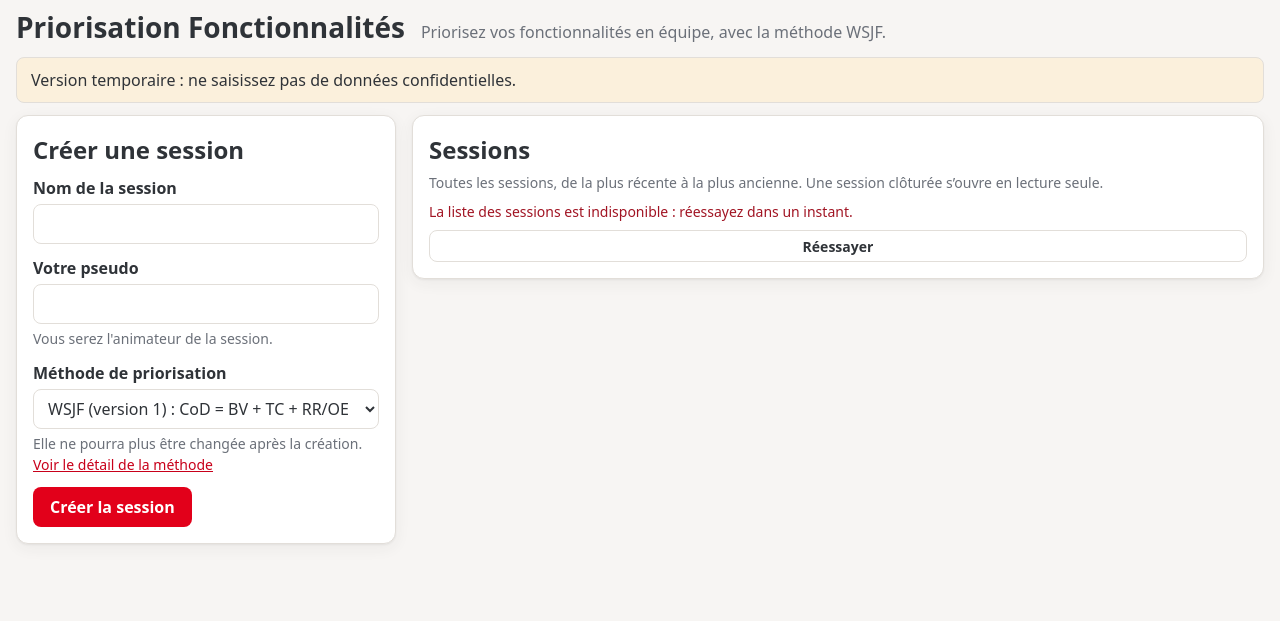
it: HomeComponent › shows a network message when the service does not answer
In the field with id "create-name": (206, 224) [33,204,379,244], type "A"
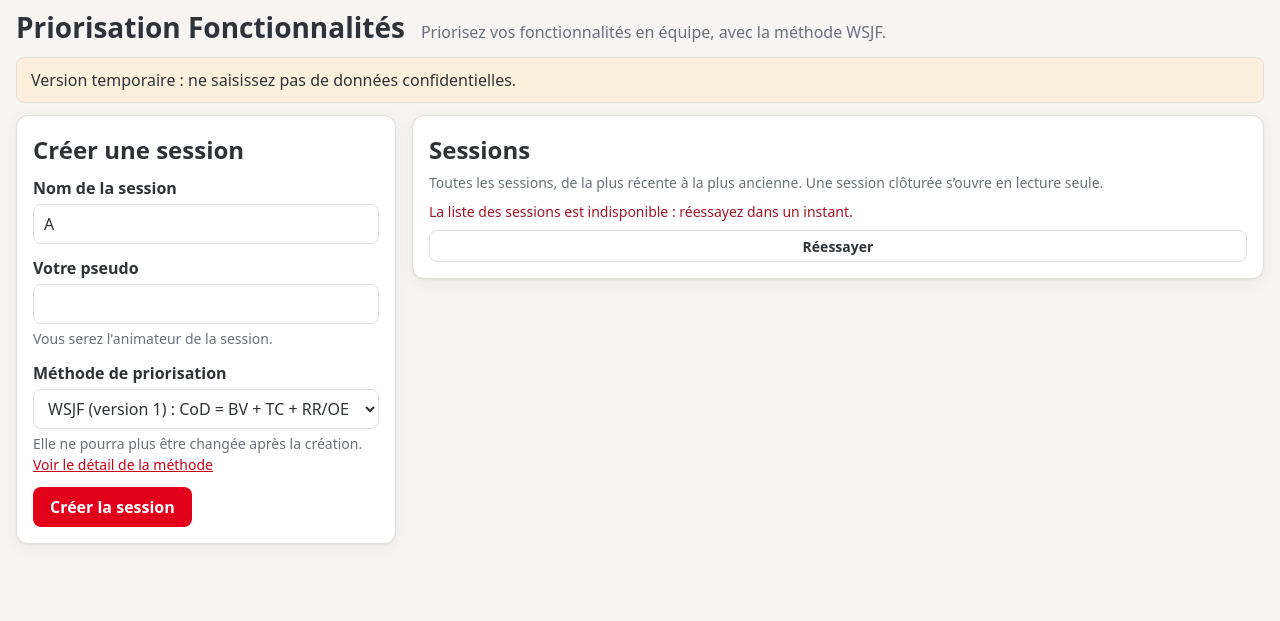
In the field with id "create-pseudo": (206, 304) [33,284,379,324], type "Éric"
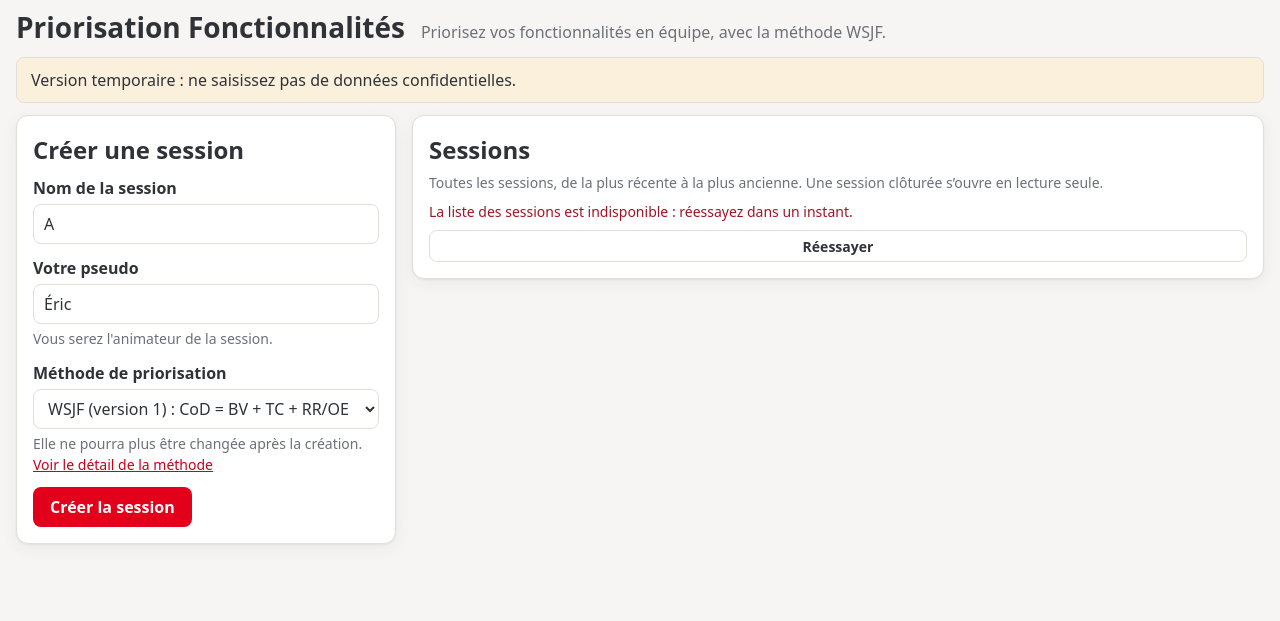
Submit the form, box [16,115,396,544]
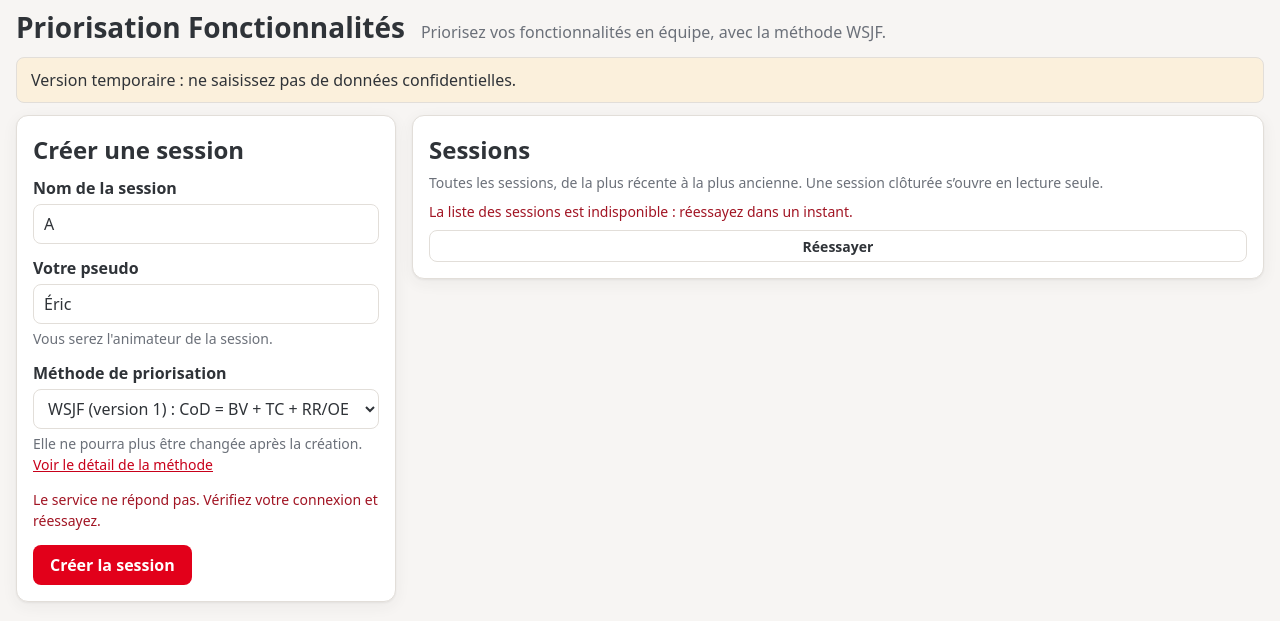
Check: the message "Le service ne répond pas. Vérifiez votre connexion et réessayez." is shown, box [33,489,379,531]
